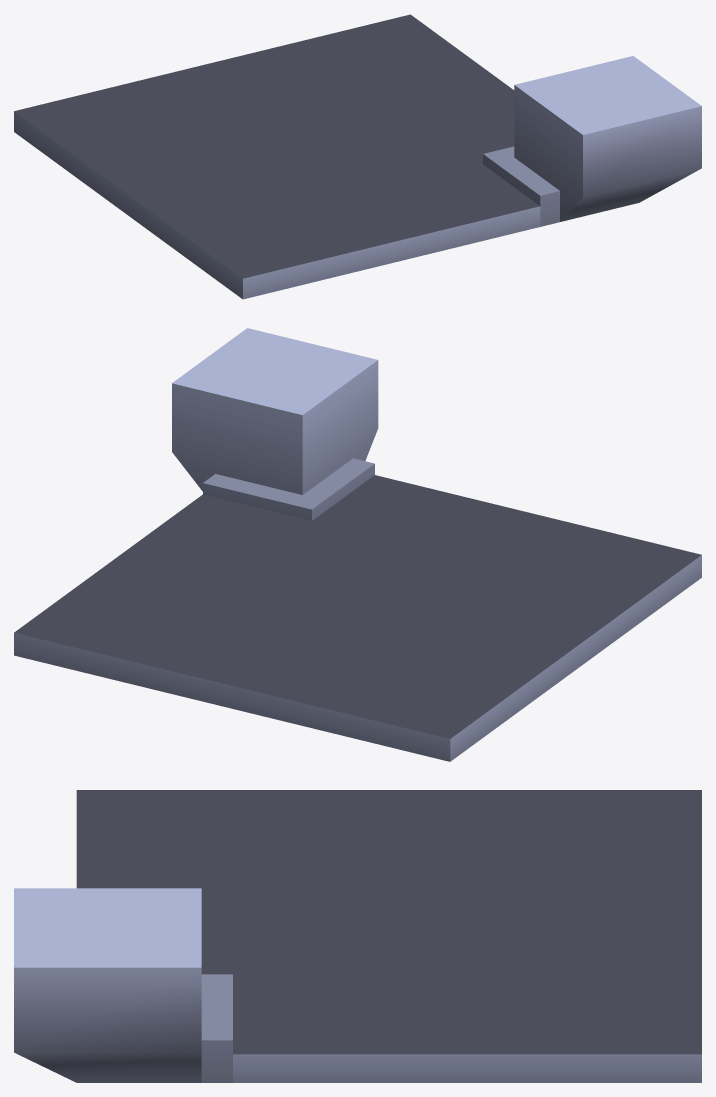
The model's file is kenney-building-roof-flat-corner-inner.glb.
The picture shows the model from 3 angles, top to bottom: view 1: azimuth 30°, elevation 25°; view 2: azimuth 150°, elevation 25°; view 3: azimuth 270°, elevation 25°; orthographic projection. The views are drawn at different scales.
Parts seen in each view (by area): view 1: roof-flat-corner-inner; view 2: roof-flat-corner-inner; view 3: roof-flat-corner-inner.
Part boxes in pixels (box(x1,y1,x2,y2)): roof-flat-corner-inner: box(14, 14, 701, 299); roof-flat-corner-inner: box(14, 328, 701, 761); roof-flat-corner-inner: box(14, 790, 701, 1082).
Size of the model in its own units: 2.2 by 0.5001 by 2.2.
Materials: 1 (1 with a texture image).
